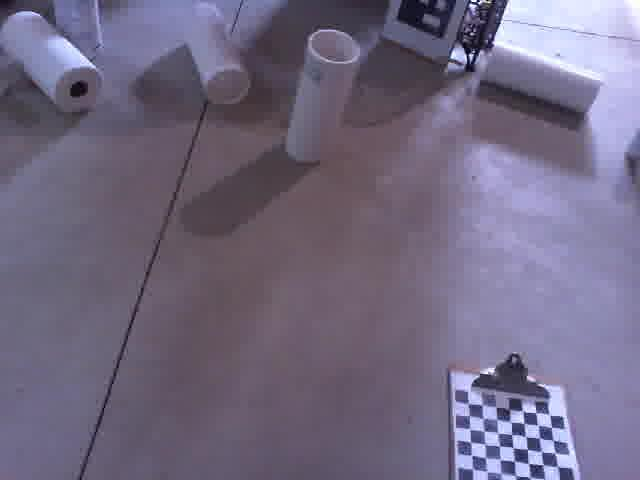coral: (282, 24, 363, 167), (477, 36, 600, 115), (177, 0, 254, 108)
